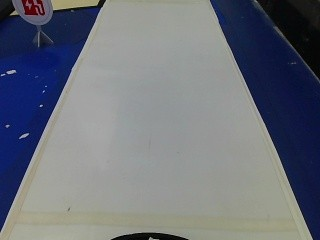battery: (11, 0, 56, 25)
